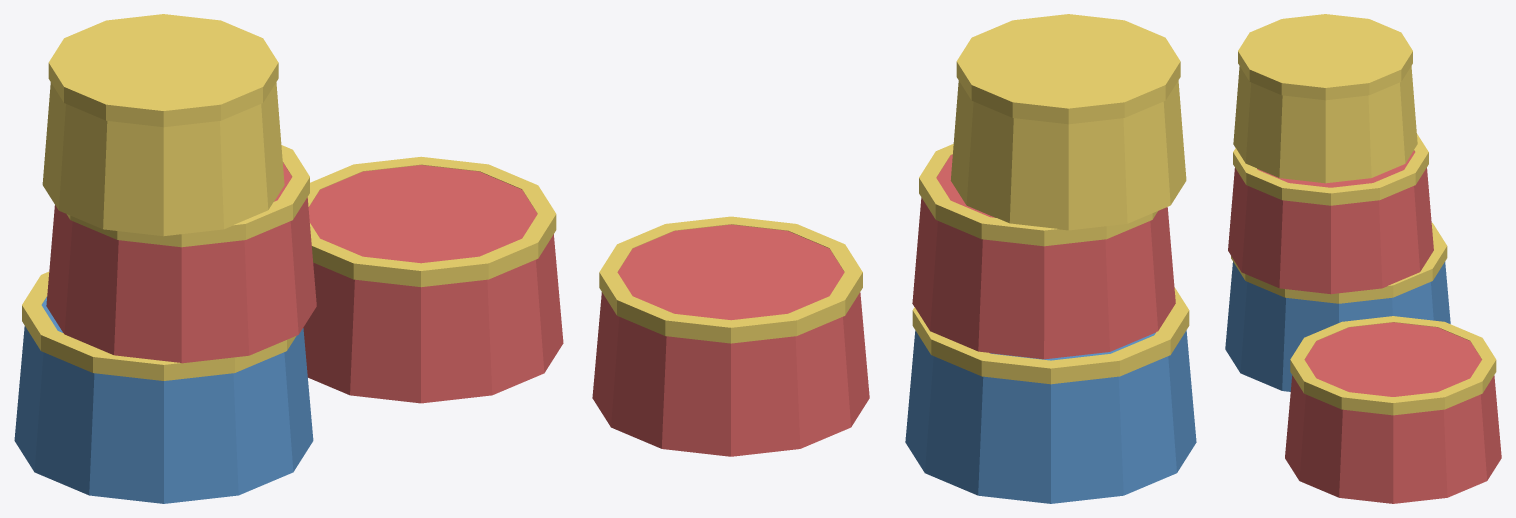
The model's file is travelling-circus-and-big-top-tub-stack-a4e17486__36255.glb.
3 views of the same model, side by side, from view 1: azimuth 30°, elevation 25°; view 2: azimuth 150°, elevation 25°; view 3: azimuth 270°, elevation 25° (orthographic). The views are drawn at different scales.
Visible parts, largest first — view 1: tub-stack-stripe, tub-stack-gold, tub-stack-azure; view 2: tub-stack-stripe, tub-stack-gold, tub-stack-azure; view 3: tub-stack-stripe, tub-stack-gold, tub-stack-azure.
Boxes of the visible parts, bbox=[...] form: tub-stack-stripe: bbox=[46, 162, 563, 403]; tub-stack-gold: bbox=[22, 14, 556, 380]; tub-stack-azure: bbox=[14, 296, 313, 503]; tub-stack-stripe: bbox=[592, 154, 1175, 456]; tub-stack-gold: bbox=[599, 14, 1189, 384]; tub-stack-azure: bbox=[905, 330, 1196, 503]; tub-stack-stripe: bbox=[1228, 150, 1501, 503]; tub-stack-gold: bbox=[1231, 14, 1496, 415]; tub-stack-azure: bbox=[1225, 261, 1450, 391].
Bounding box in the file's own units: 1.77 × 1.2 × 1.02.
